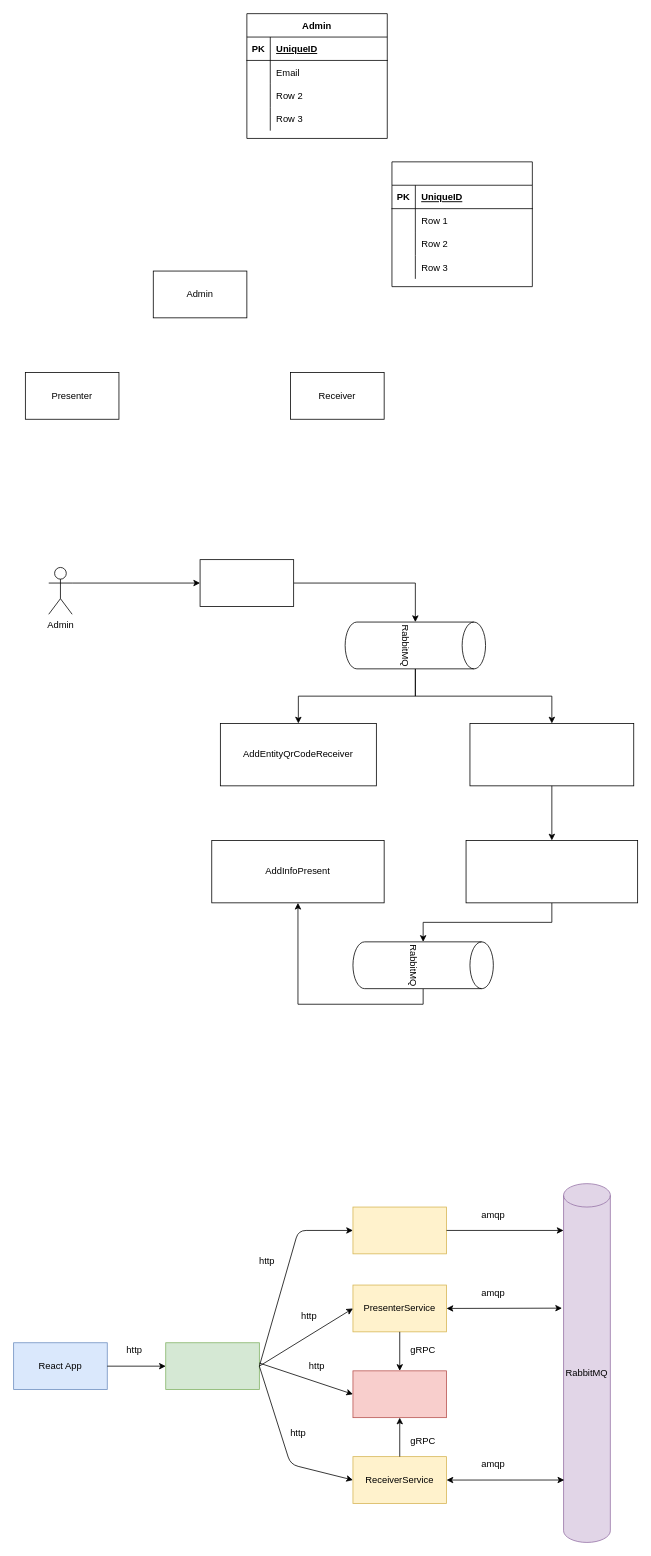
The diagram is 651 pixels wide and 1556 high, and some of its shapes have lost their labels. Here are the shapes that lost their labels. From the top down, the box of each, then its label:
(391, 161, 532, 287): Table
(199, 559, 294, 606): GenerateQrCode
(469, 723, 634, 786): AddEntityQrCodePresenter
(465, 840, 638, 903): AddPresent
(352, 1206, 447, 1254): AdminService
(165, 1342, 259, 1390): API Gateway
(352, 1370, 447, 1418): MemeService
